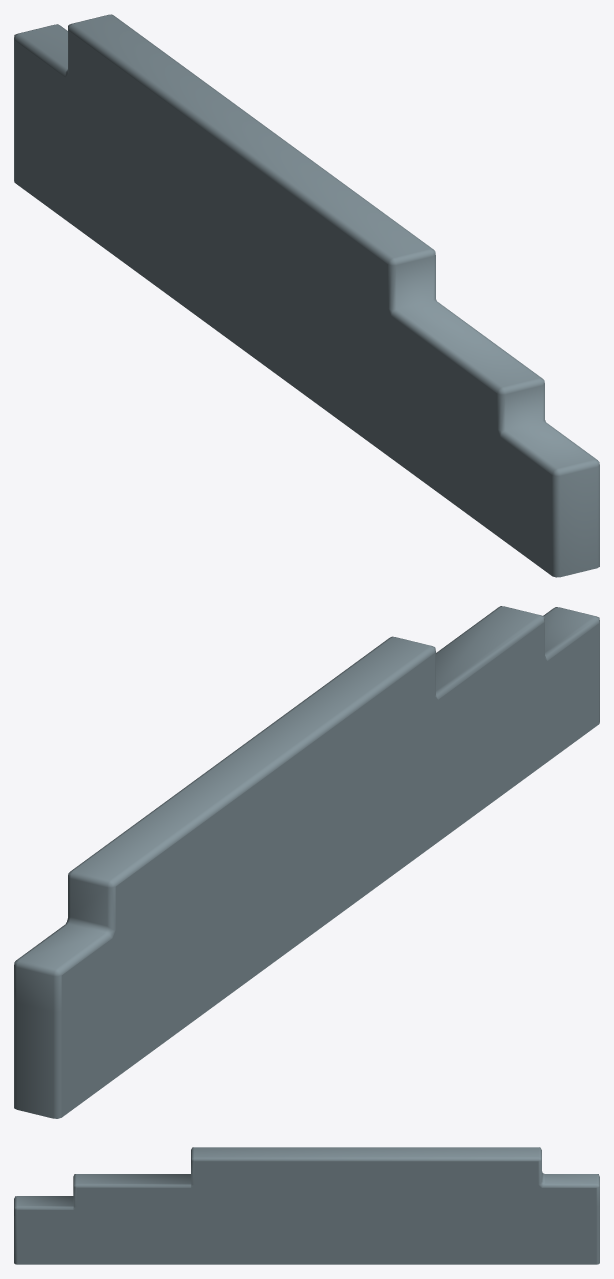
Rendered from Wall.dae.
The picture shows the model from 3 angles, top to bottom: view 1: azimuth 30°, elevation 25°; view 2: azimuth 150°, elevation 25°; view 3: azimuth 270°, elevation 25°; orthographic projection. The views are drawn at different scales.
Visible parts, largest first — view 1: Wall; view 2: Wall; view 3: Wall.
Boxes of the visible parts, x1,y1,x2,y2 form: Wall: (14,14,599,577); Wall: (14,606,599,1118); Wall: (14,1147,599,1264).
Bounding box in the file's own units: 0.5 × 10 × 2.
